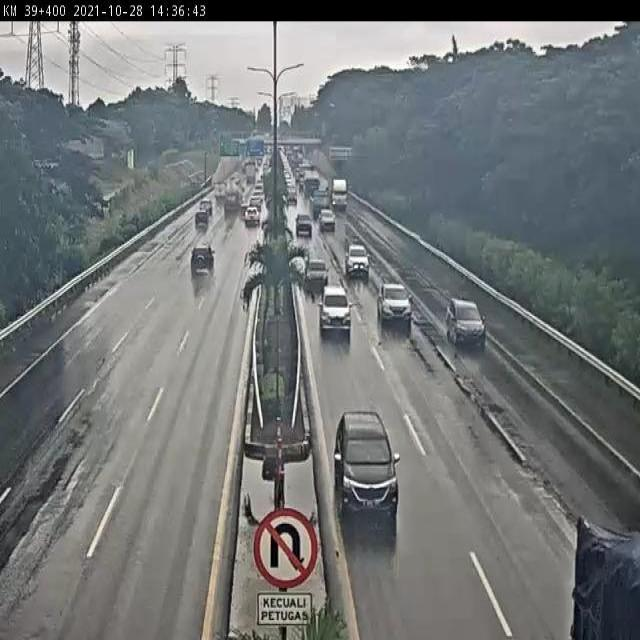big truck: (519, 461, 640, 632), (328, 181, 345, 204), (226, 185, 240, 212)
car: (344, 413, 392, 499), (380, 283, 411, 324), (188, 245, 211, 283), (453, 307, 478, 340), (342, 239, 364, 268), (326, 284, 341, 321), (303, 247, 320, 272), (238, 213, 257, 232), (297, 211, 311, 233), (190, 220, 204, 236), (197, 203, 211, 217), (314, 207, 326, 221), (250, 203, 262, 213)
